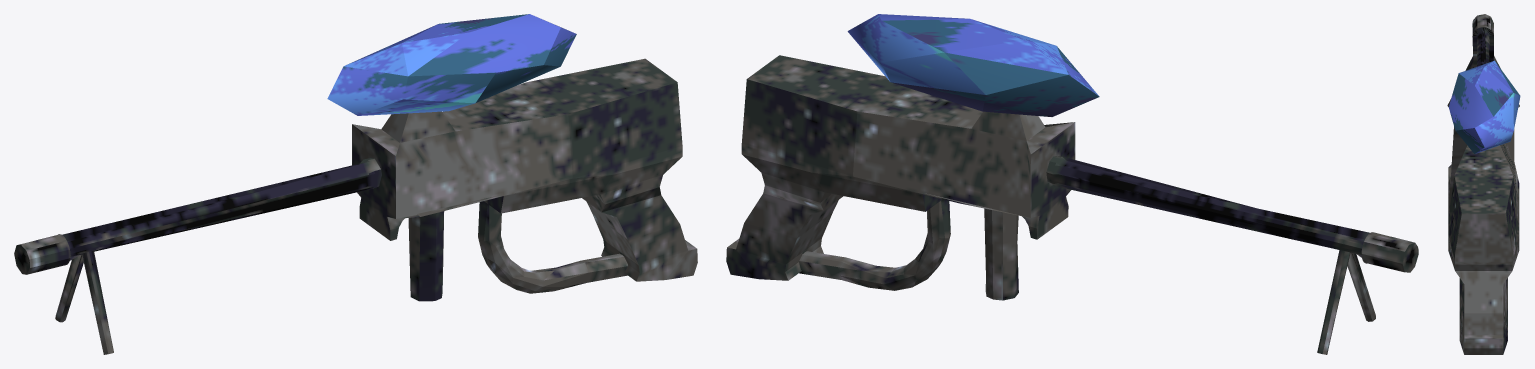
Rendered from paintballgunLongRange.fbx.
3 views of the same model, side by side, from view 1: azimuth 30°, elevation 25°; view 2: azimuth 150°, elevation 25°; view 3: azimuth 270°, elevation 25° (orthographic). The views are drawn at different scales.
Visible parts, largest first — view 1: Cube, Icosphere; view 2: Cube, Icosphere; view 3: Cube, Icosphere.
Part boxes in pixels (x1=…): Cube: x1=14, y1=58, x2=697, y2=354; Icosphere: x1=327, y1=14, x2=576, y2=115; Cube: x1=726, y1=55, x2=1418, y2=354; Icosphere: x1=847, y1=14, x2=1099, y2=116; Cube: x1=1447, y1=14, x2=1519, y2=354; Icosphere: x1=1448, y1=60, x2=1520, y2=153.
Bounding box in the file's own units: 533 × 224 × 74.93.
